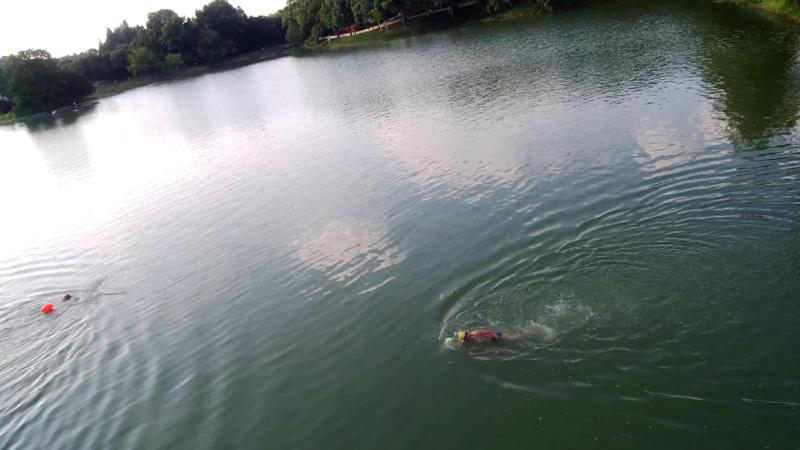swimmers: (449, 324, 528, 349)
